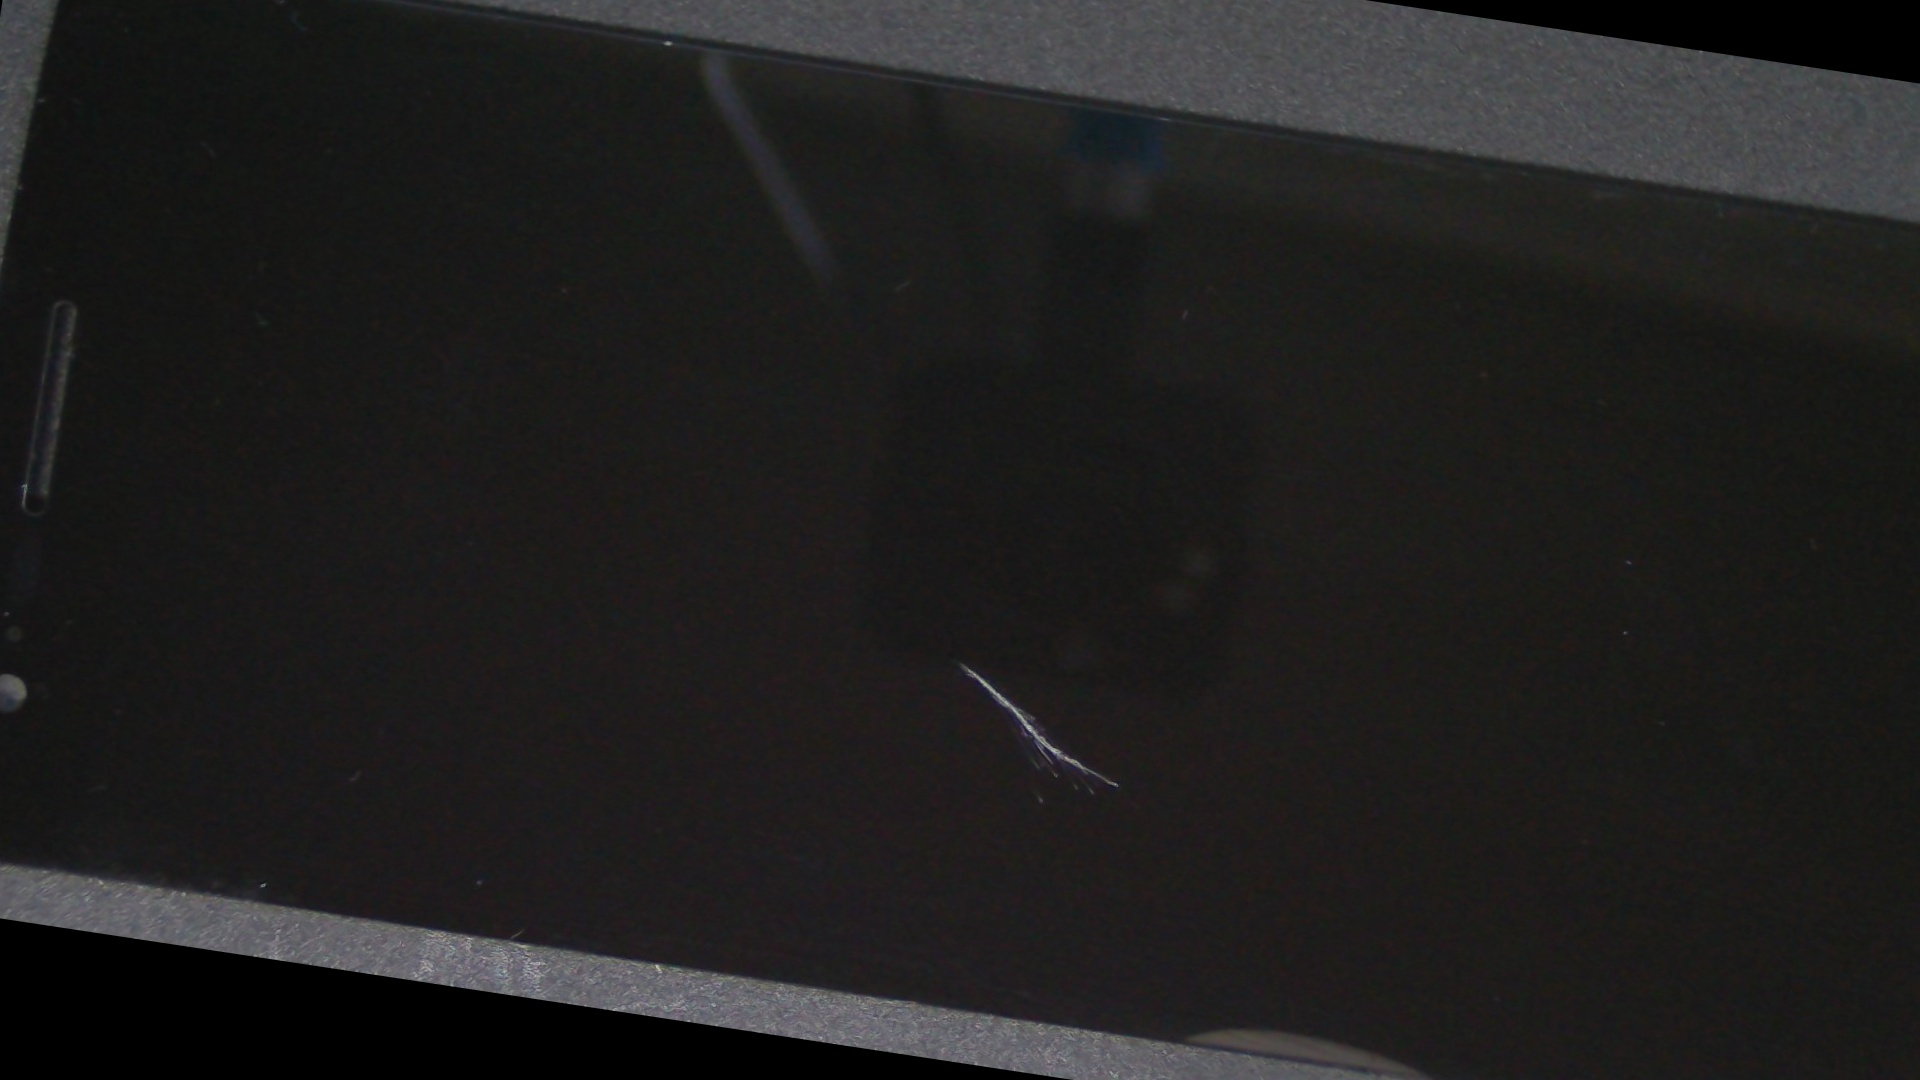oil: (389, 228, 1530, 1080)
